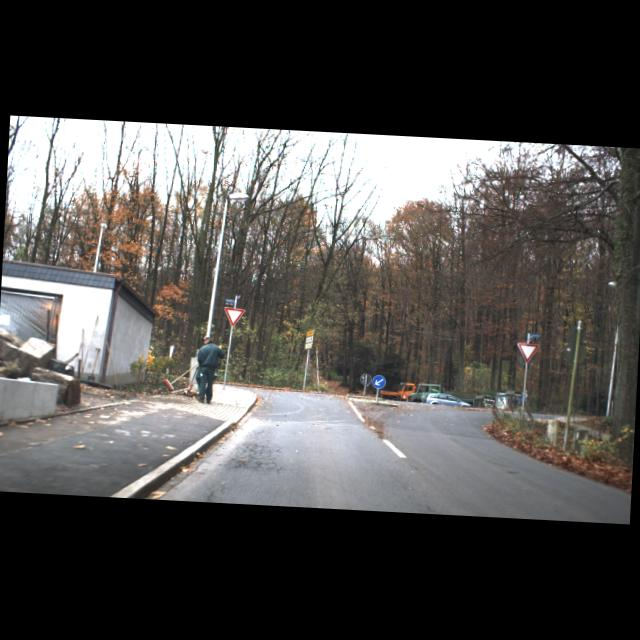mandatory: (372, 374, 388, 390)
other: (224, 307, 246, 328), (517, 344, 540, 364)
